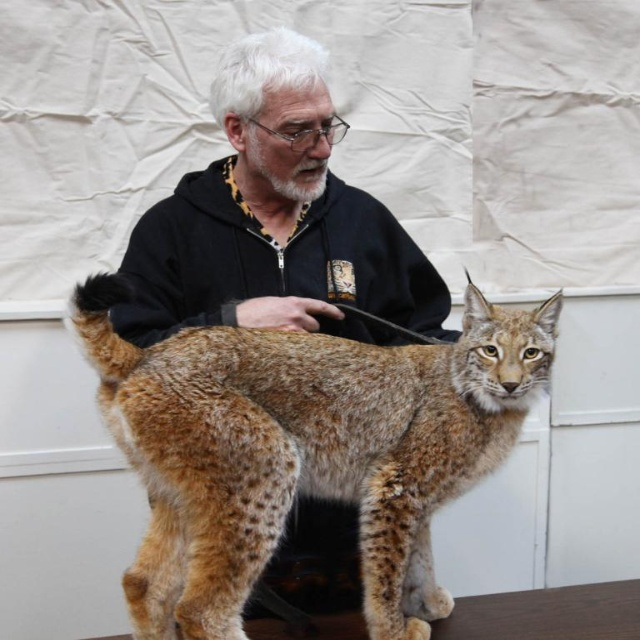Lynx: (59, 267, 563, 639)
